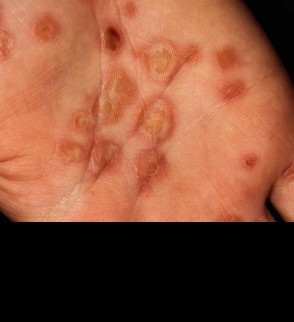SJS-TEN: (47, 0, 265, 217), (0, 3, 74, 70)
